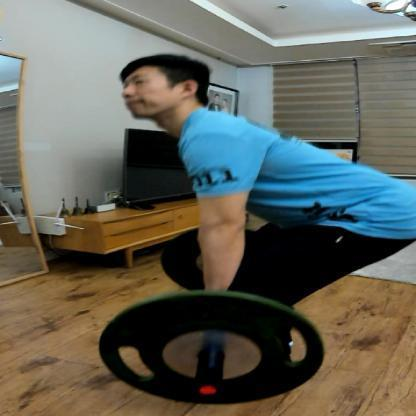barbell: (97, 215, 327, 407)
